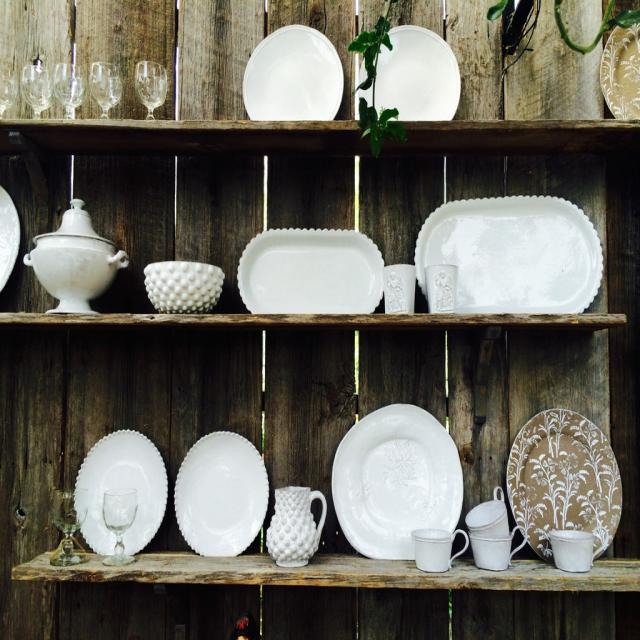non-organic waste: (414, 188, 604, 325), (331, 382, 466, 570), (499, 388, 632, 575), (72, 417, 168, 573), (344, 5, 456, 138), (225, 27, 376, 122), (172, 426, 270, 562), (239, 233, 385, 320)
